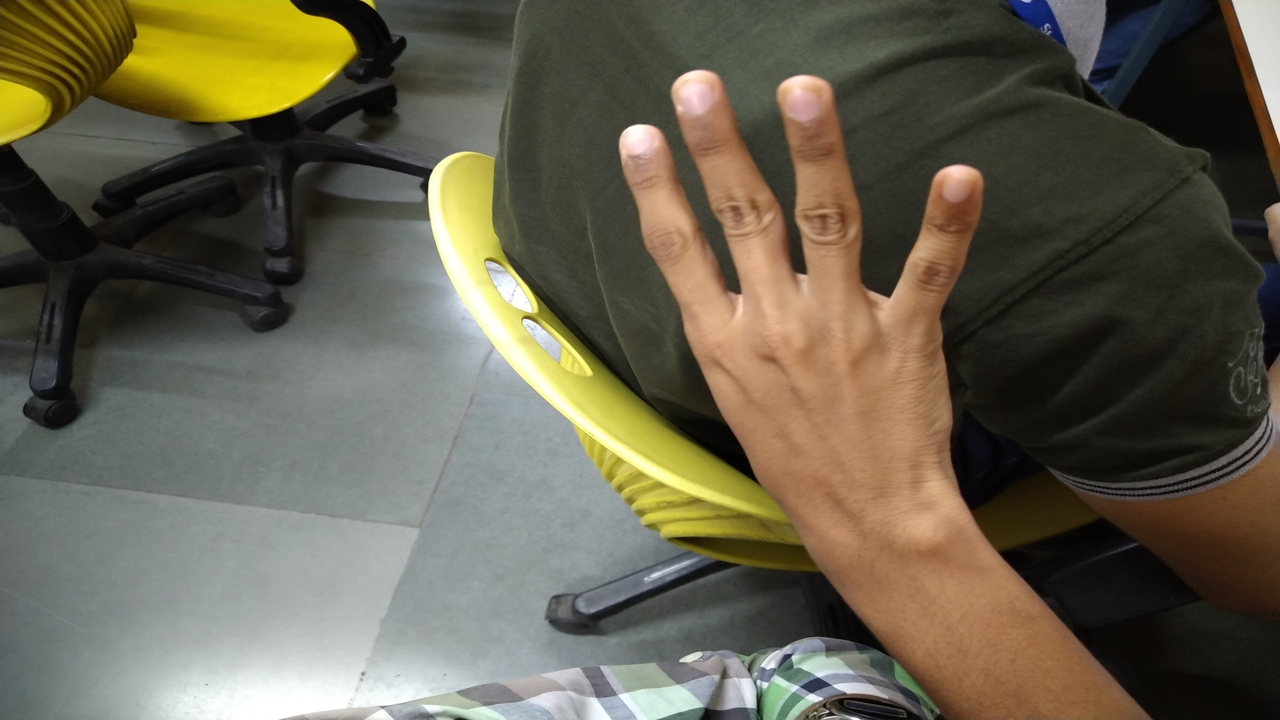fingertip: (928, 154, 990, 222), (666, 64, 730, 126), (776, 72, 842, 126), (614, 116, 666, 178)
